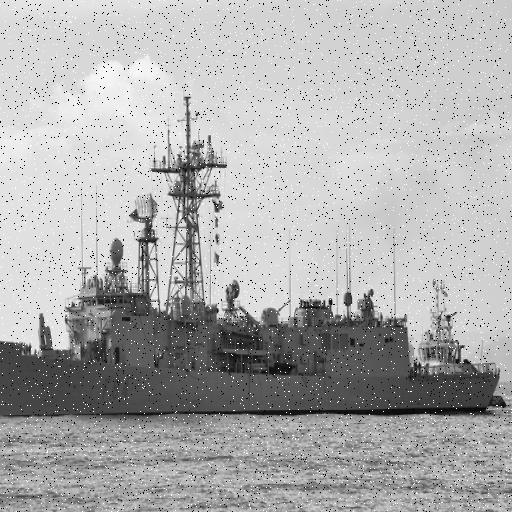Fragata: (1, 81, 502, 420)
